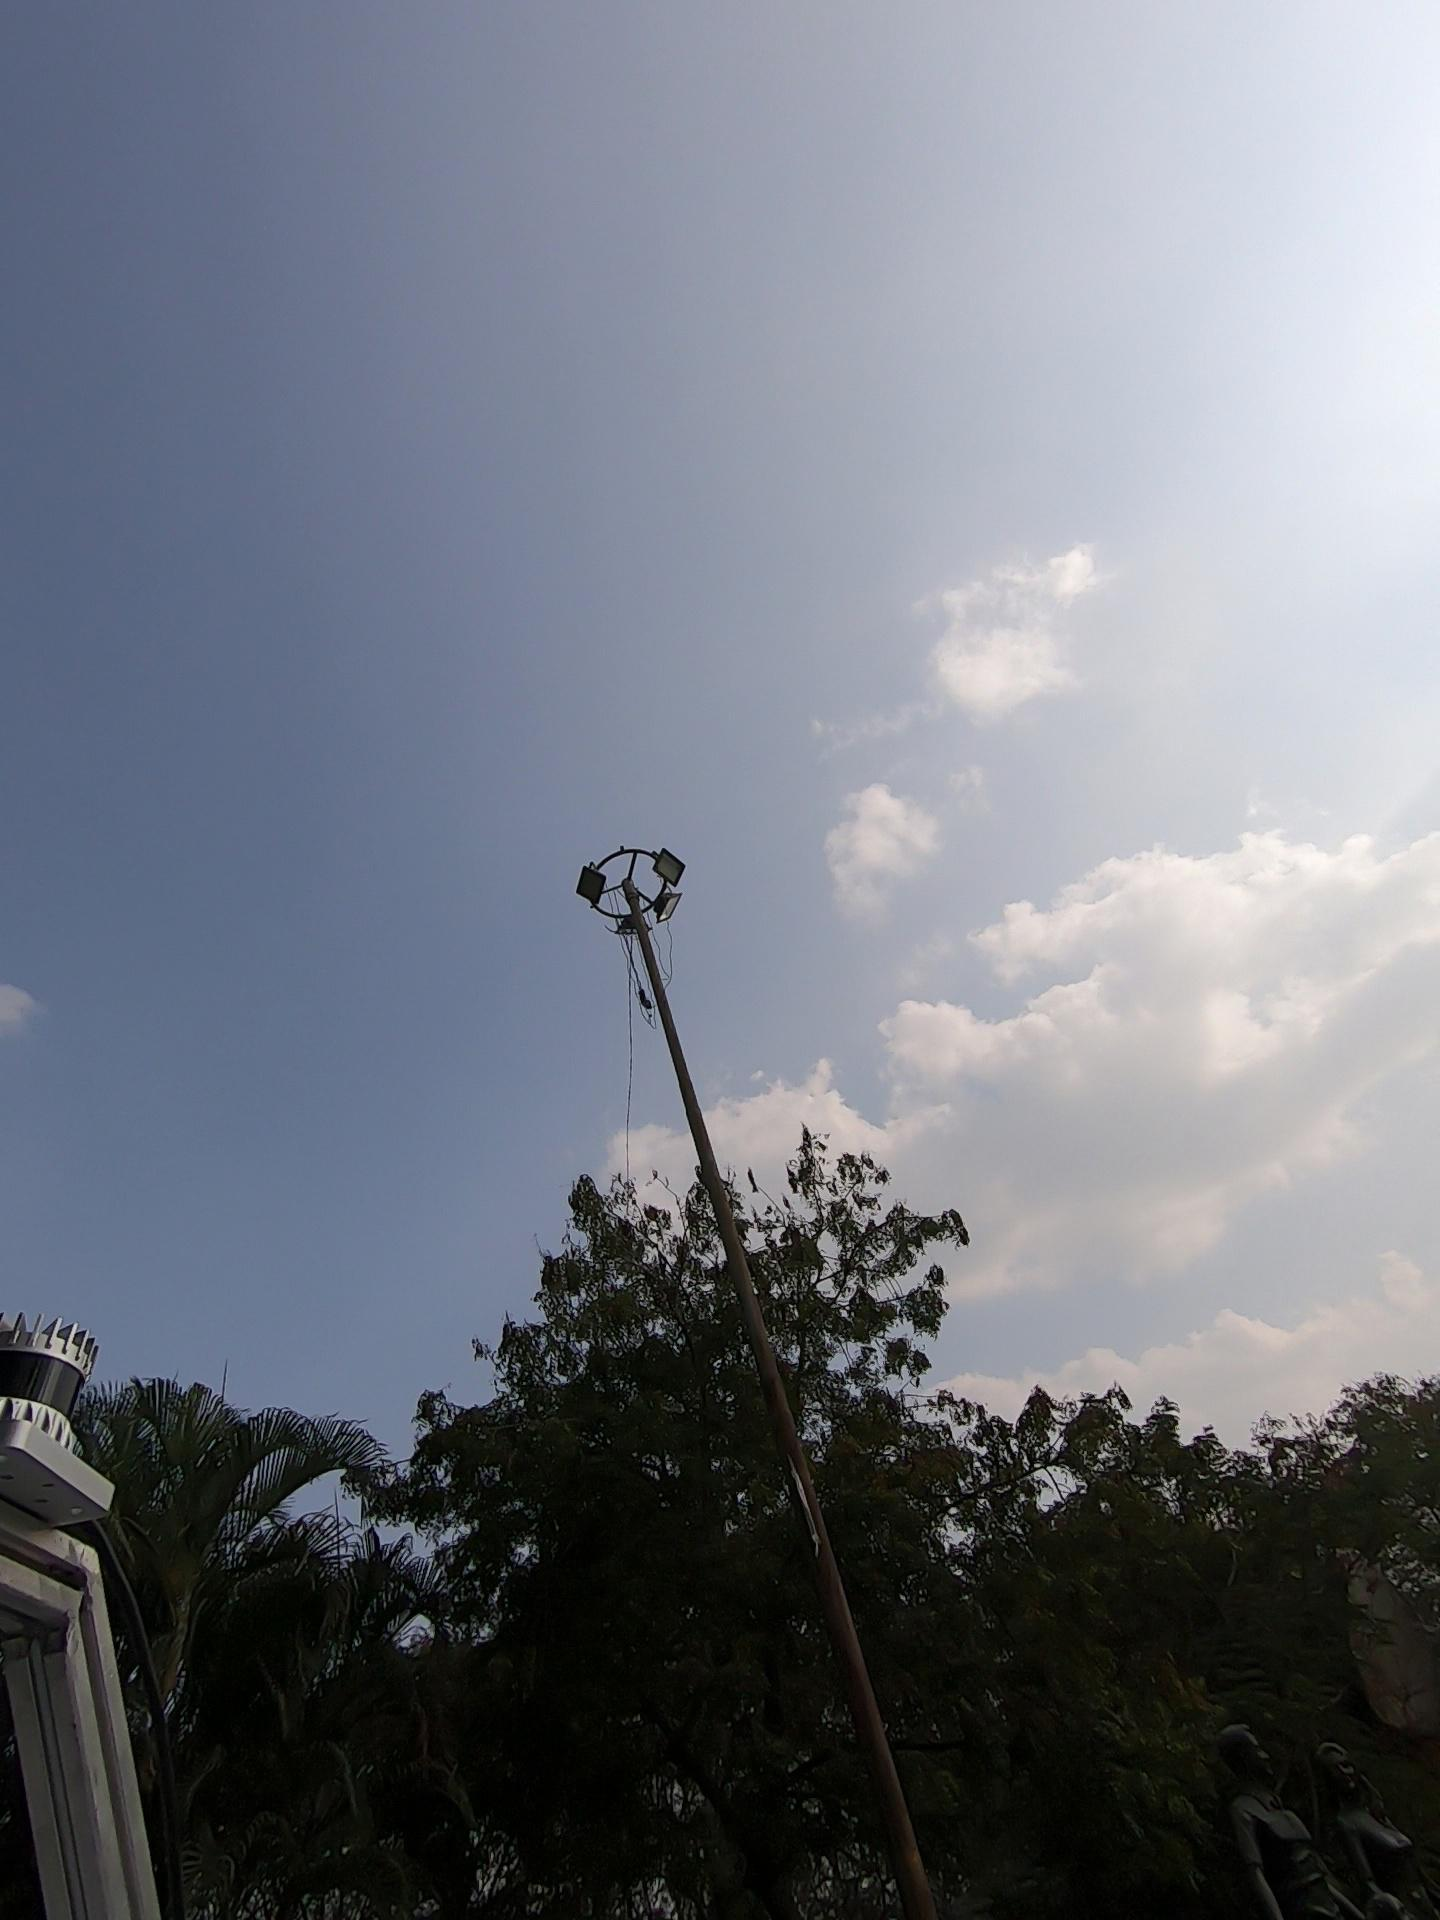off: (555, 726, 796, 1043)
